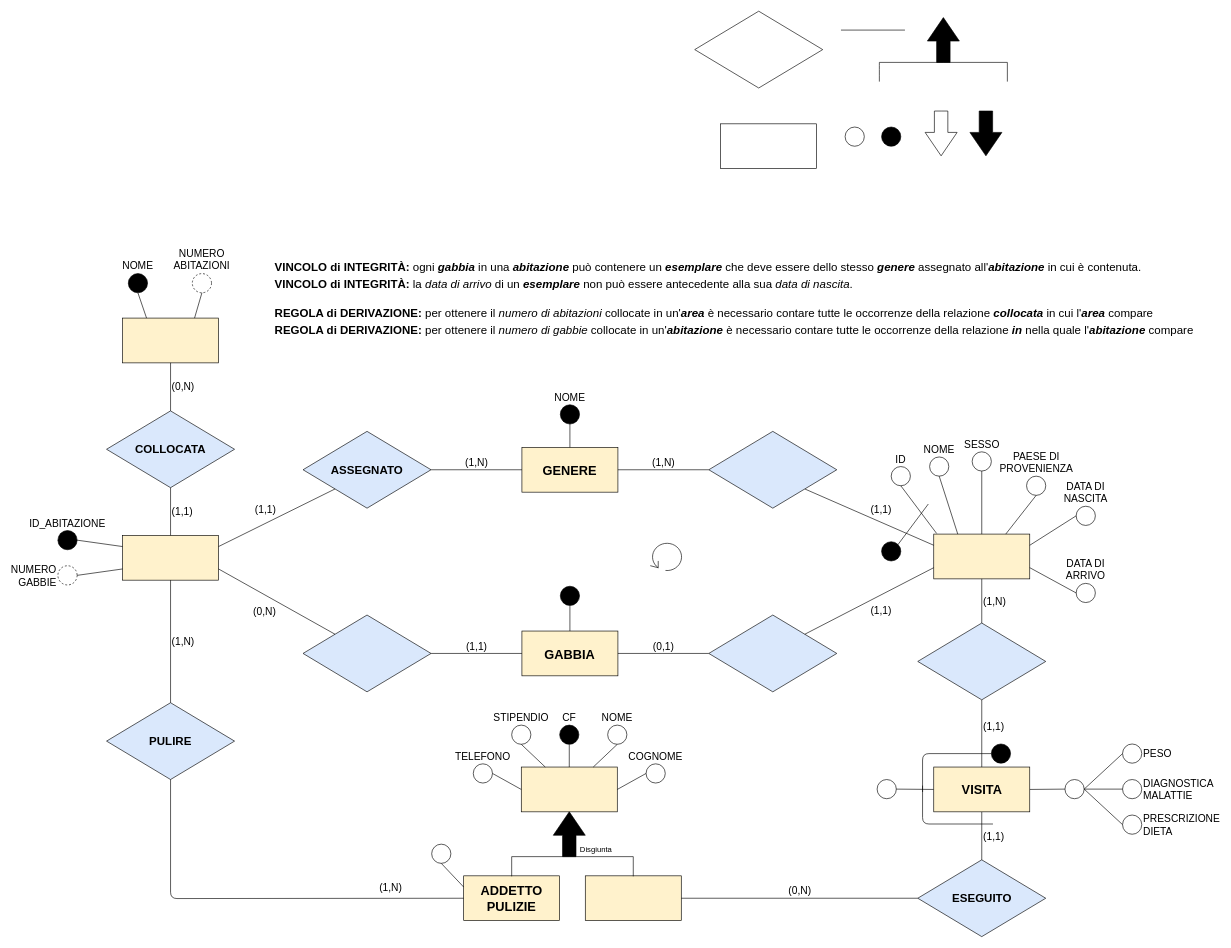
Image size: 1231x948. Some labels were removed from this diagram. The shapes that lost their labels are listed below. From the top down, each one's centre as x and y in pixels, then its label:
At [170,340]: "AREA".
At [772,469]: "APPARTIENE".
At [170,557]: "ABITAZIONE".
At [981,556]: "ESEMPLARE".
At [570,595]: "ID_GABBIA".
At [366,653]: "IN".
At [772,653]: "CONTENUTO".
At [981,661]: "RICEVE".
At [569,789]: "DIPENDENTE".
At [886,789]: "DATA".
At [1074,789]: "RISULTATI VISITA".
At [441,853]: "TURNO DI PULIZIA".
At [633,898]: "VETERINARIO".
